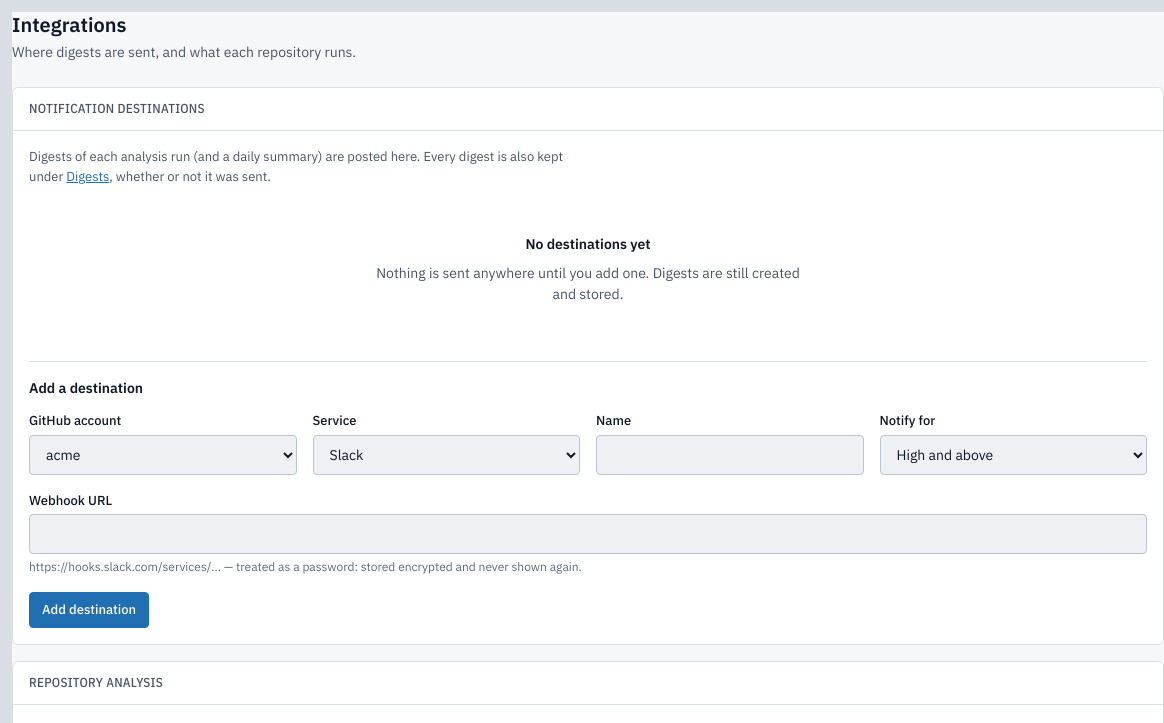
Scenario: Integrations › shows a rejected save even when the 422 carries no per-field errors
The width and height of the screenshot is (1164, 723).
In the field labelled "Name": (730, 455) [596,435,864,475], type "#alerts"
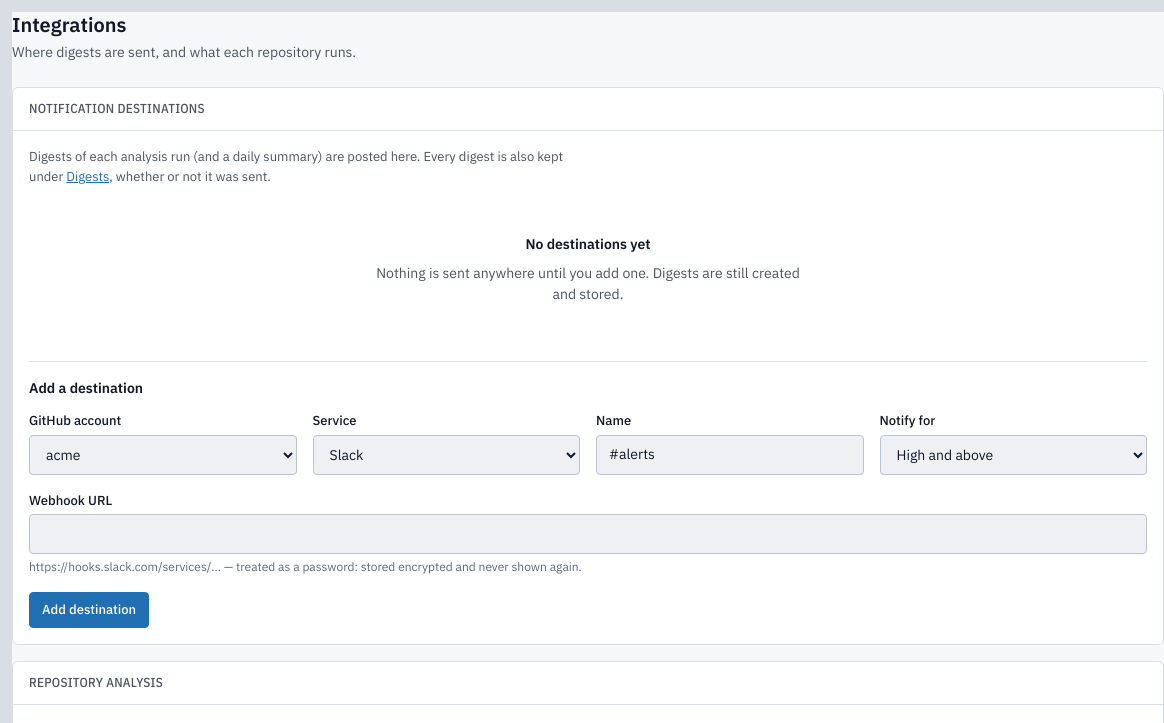
In the password field labelled "Webhook URL": (588, 534) [29,514,1147,554], type "https://hooks.slack.com/services/T0/B0/x"
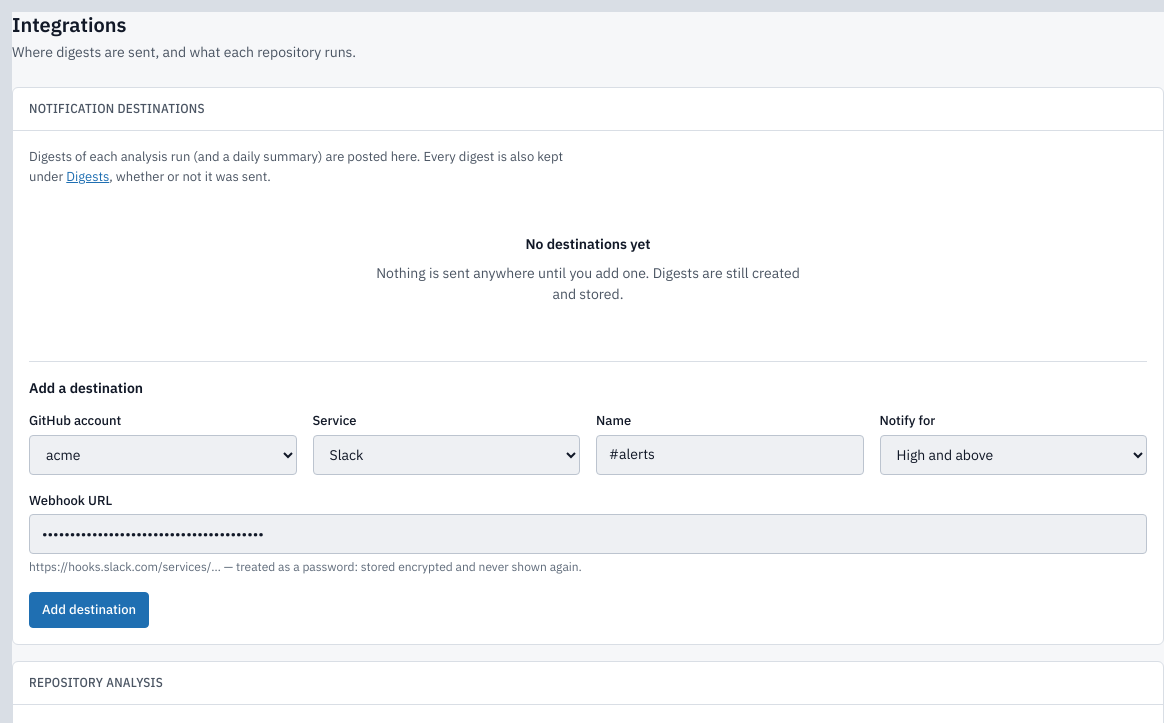
Click the button "Add destination": (89, 610) [29,592,149,628]
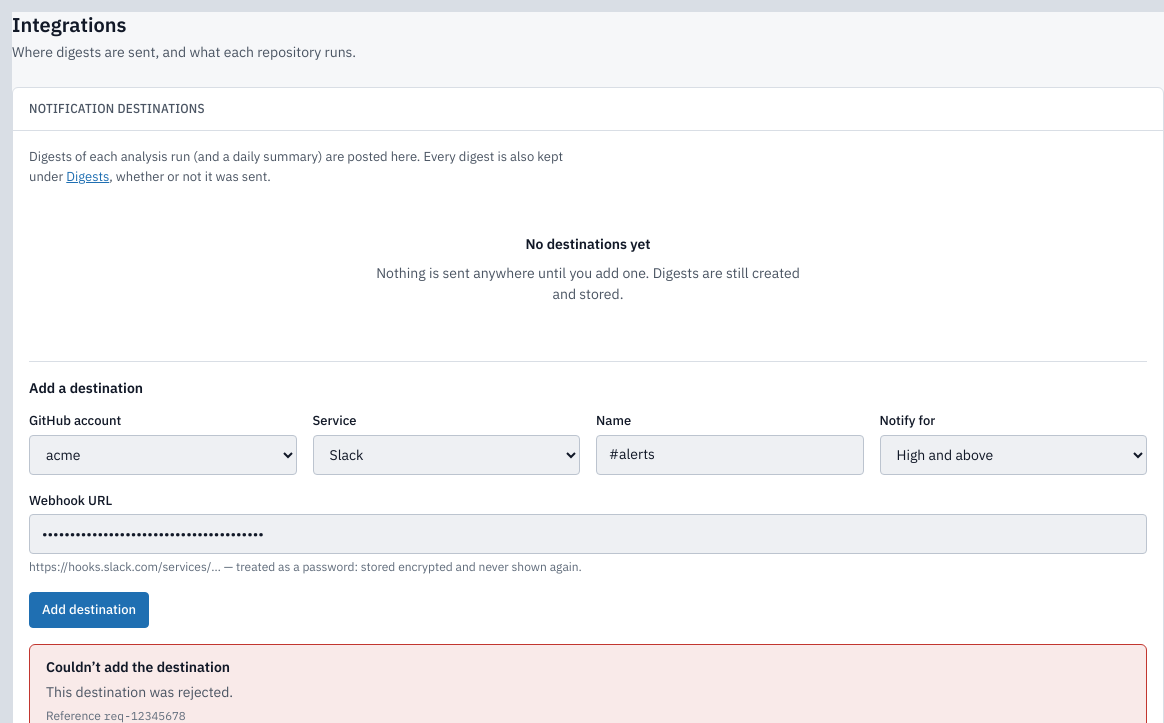
Expected: the text "Couldn’t add the destination" is shown, [46,657,233,678]
Expected: the text "This destination was rejected." is shown, [46,682,233,703]
